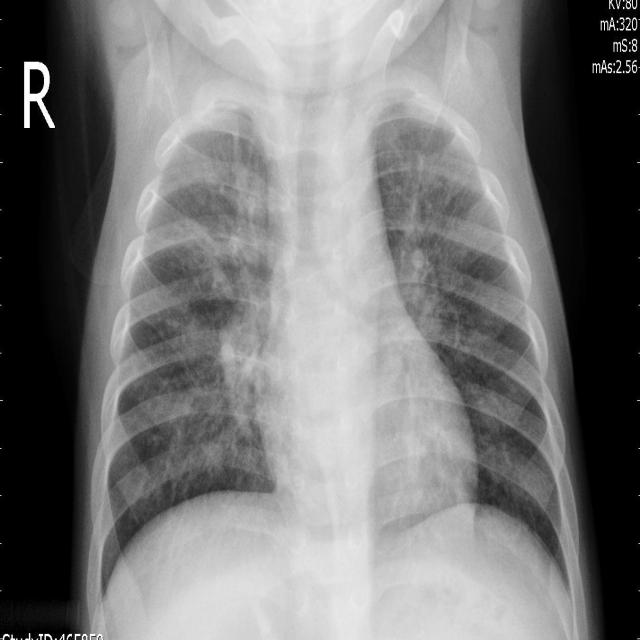low-pneumonia: (182, 218, 276, 453), (396, 183, 475, 369)
